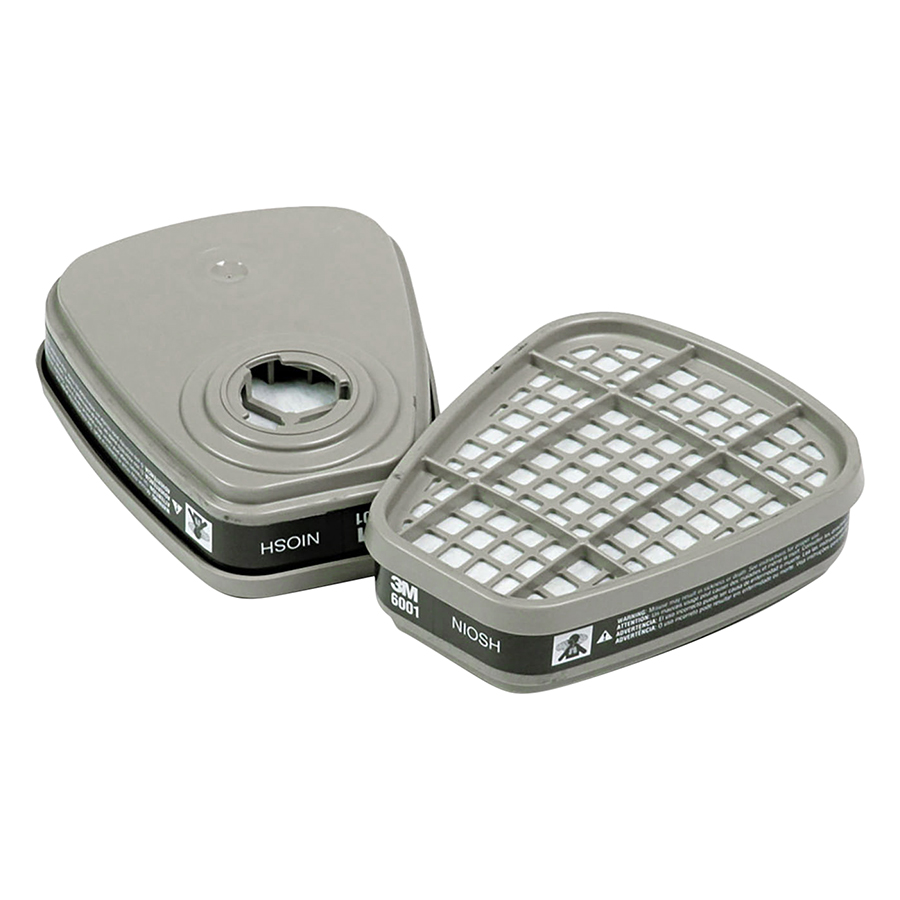3M: (385, 570, 425, 605)
